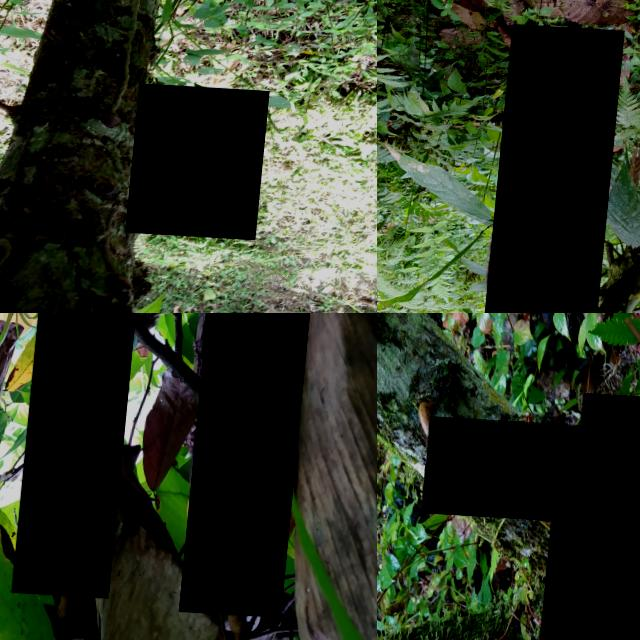Fitoftora: (490, 22, 628, 313), (189, 313, 317, 611), (21, 313, 142, 594), (134, 80, 275, 235), (576, 390, 640, 542)
Monilia: (537, 508, 640, 640)
Sana: (427, 416, 601, 519)
